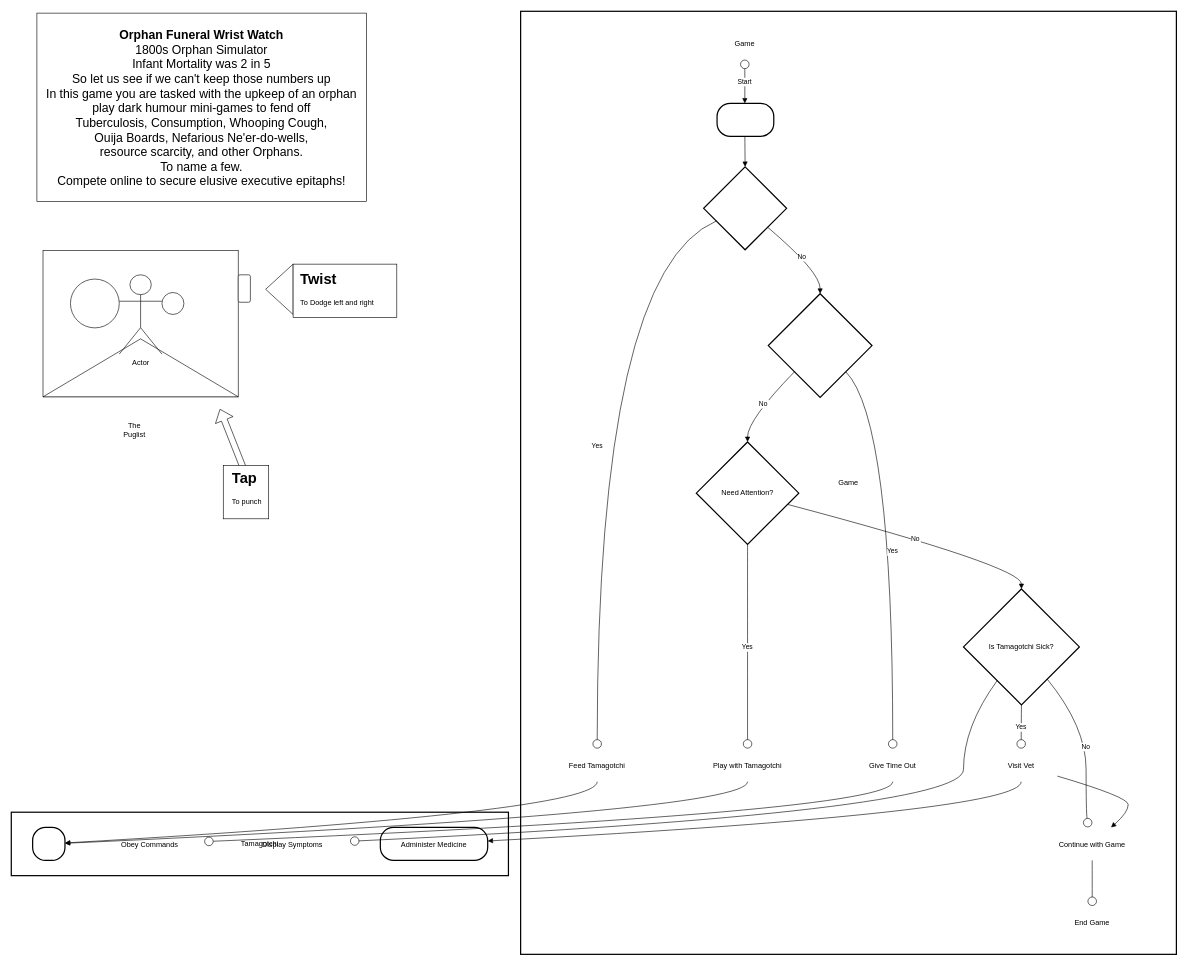
Some shapes in this 1187 by 965 pixel diagram are drawn without their labels. The centre of each missing label's shape, as x and y in pixels:
"Eat" goes at (48,844).
"Initialize" goes at (745,119).
"Need Discipline?" goes at (819,345).
"Need Food?" goes at (745,208).
